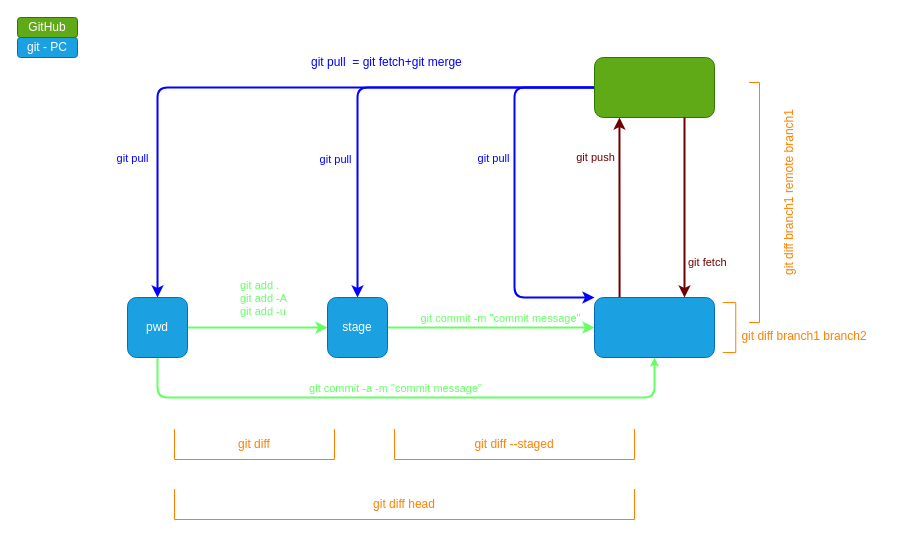
This 907x537 diagram has some shape labels left out. The shapes that lost their labels are listed below. From the top down, each one's centre as x and y in pixels, then its label:
the point at 654,87: remote repo (ex: master,branch1, branch2)
the point at 654,327: local repo (ex: master,branch1, branch2)
